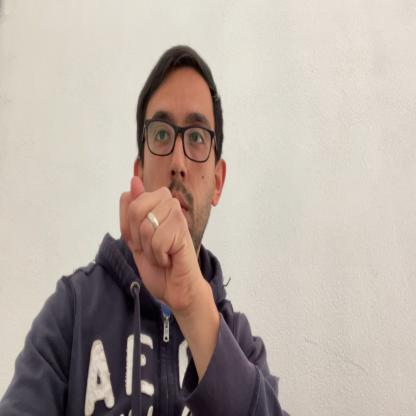T: (119, 175, 198, 317)
